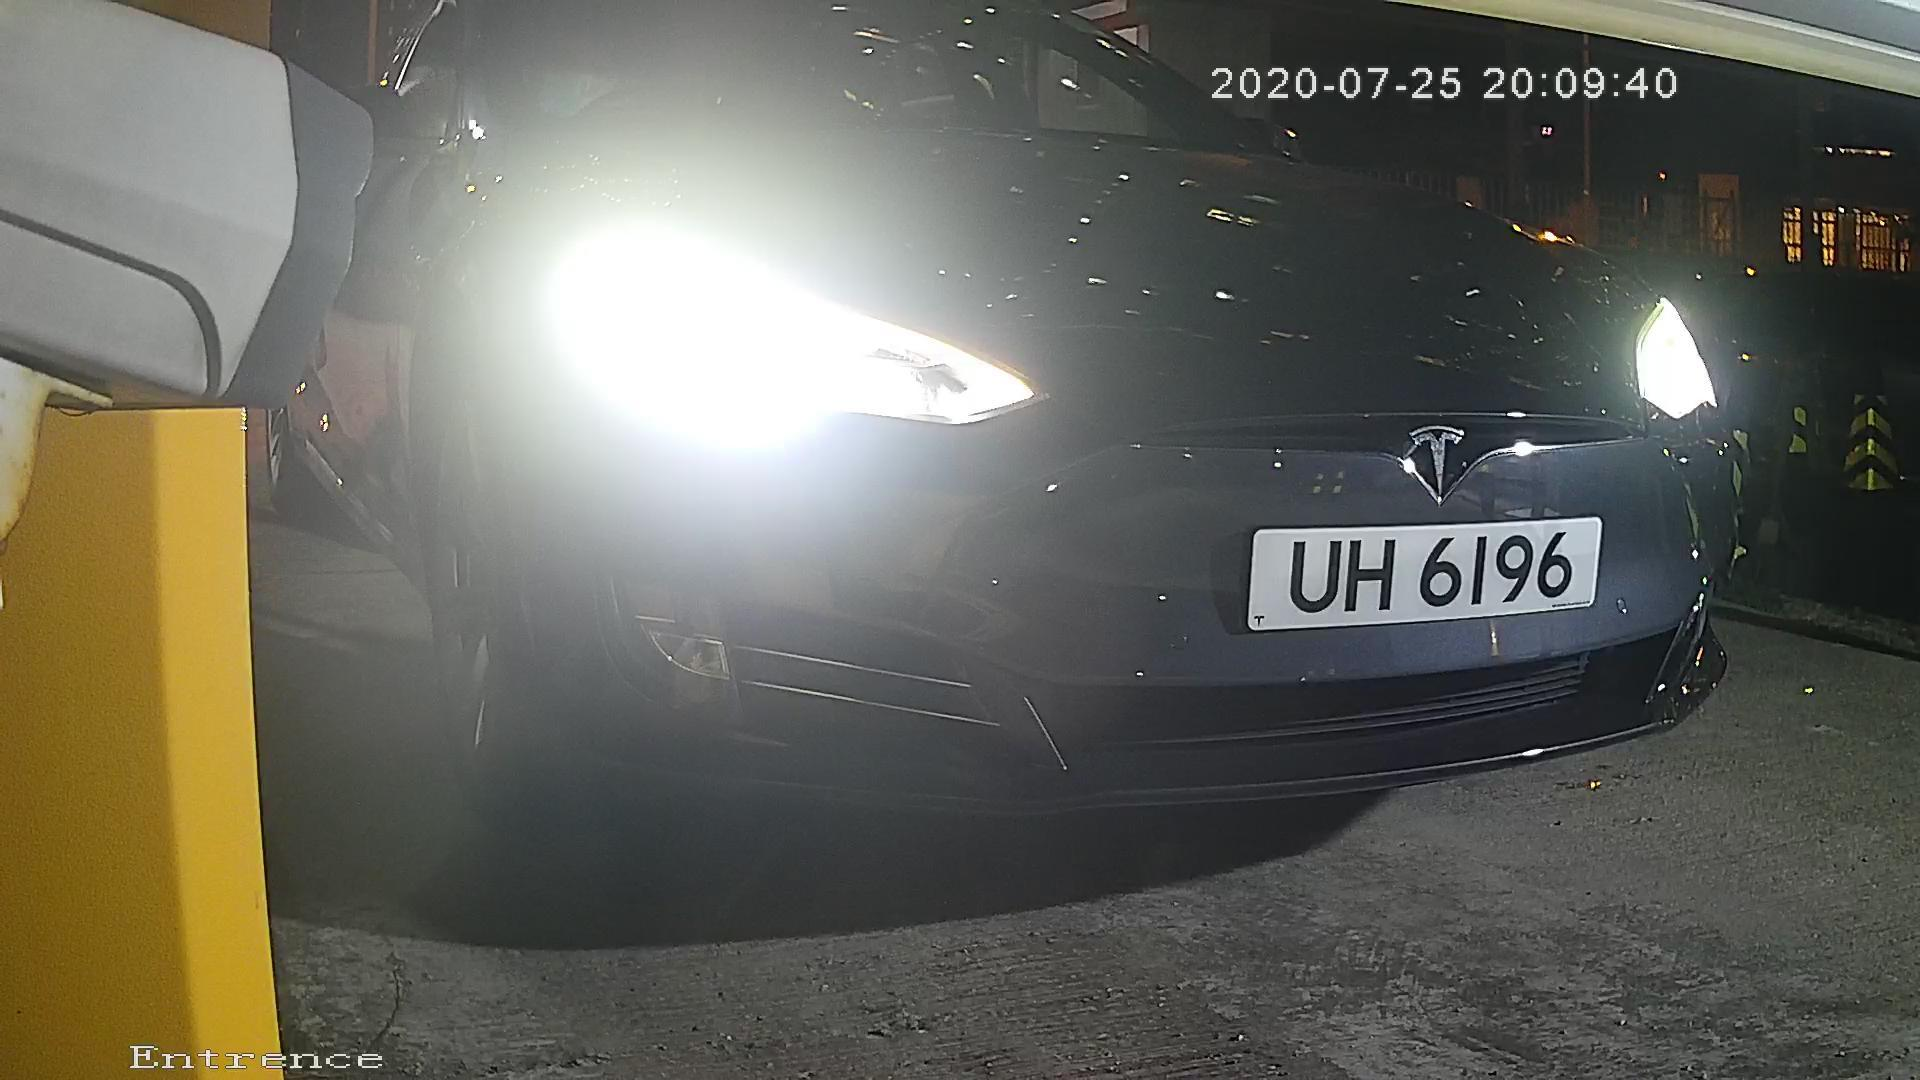privatecar: (421, 1, 1809, 873)
